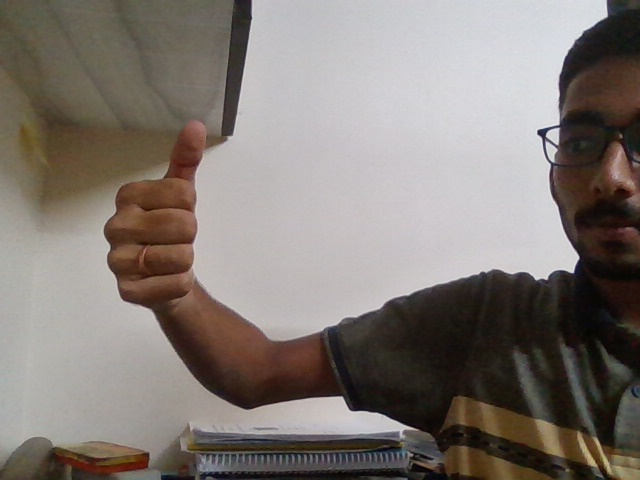Yes: (82, 108, 238, 344)
